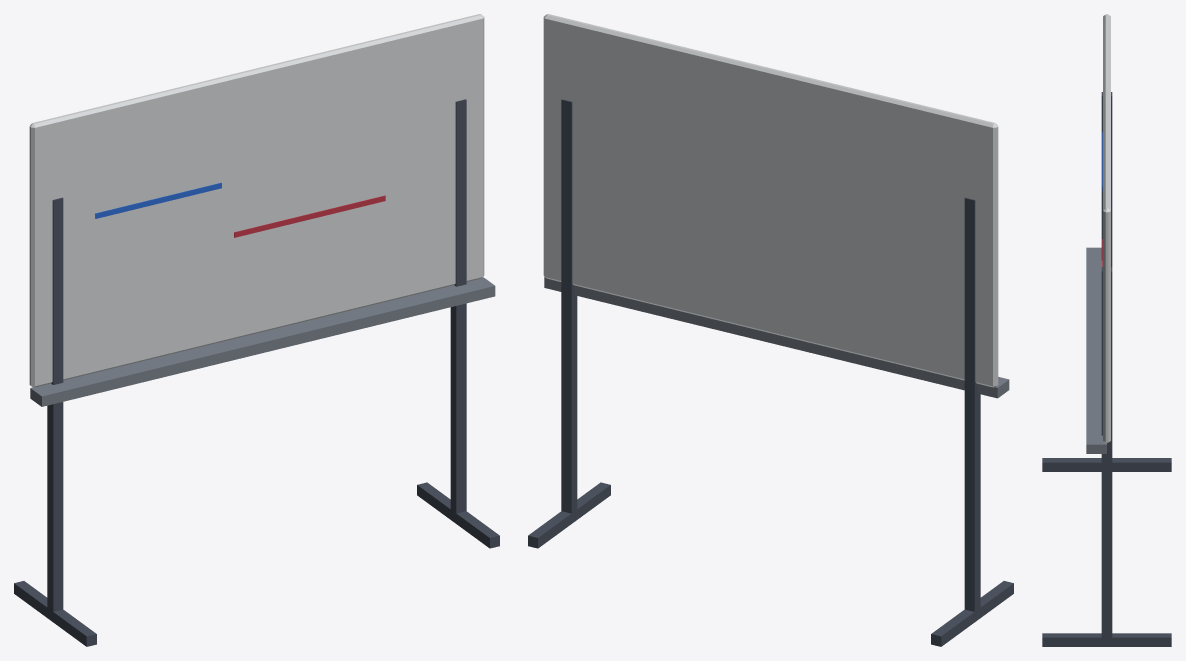
Rendered from whiteboard.glb.
3 views of the same model, side by side, from view 1: azimuth 30°, elevation 25°; view 2: azimuth 150°, elevation 25°; view 3: azimuth 270°, elevation 25° (orthographic). The views are drawn at different scales.
Parts seen in each view (by area): view 1: whiteboard; view 2: whiteboard; view 3: whiteboard.
Boxes of the visible parts, x1,y1,x2,y2 form: whiteboard: (14, 14, 499, 646); whiteboard: (528, 14, 1013, 646); whiteboard: (1042, 14, 1171, 646).
Bounding box in the file's own units: 1.8 × 1.9 × 0.5.
